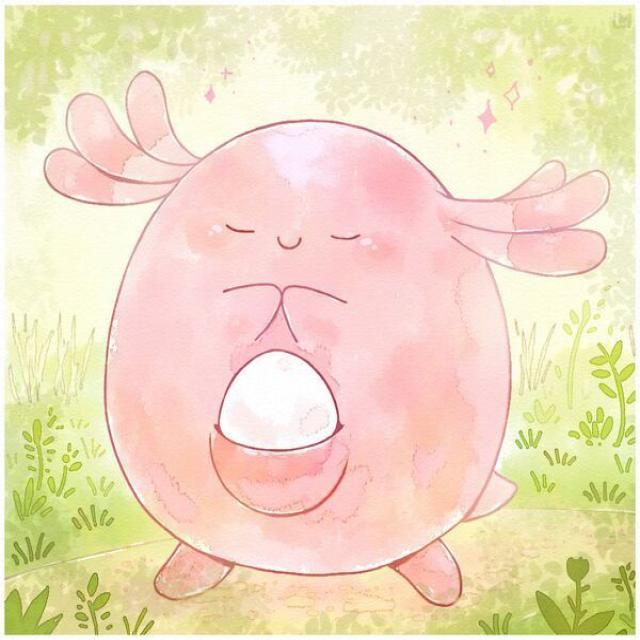Chansey: (101, 116, 531, 580)
